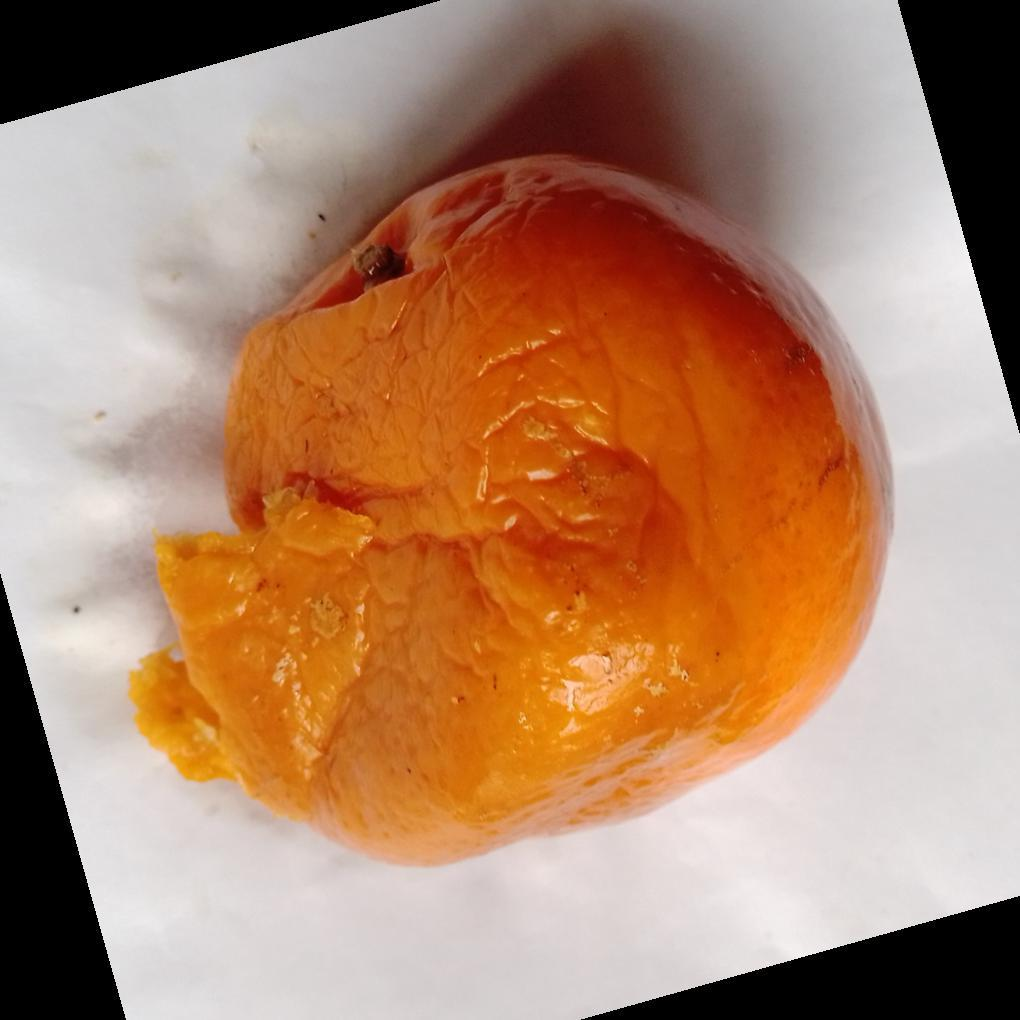FreshOrange: (128, 154, 896, 873)
